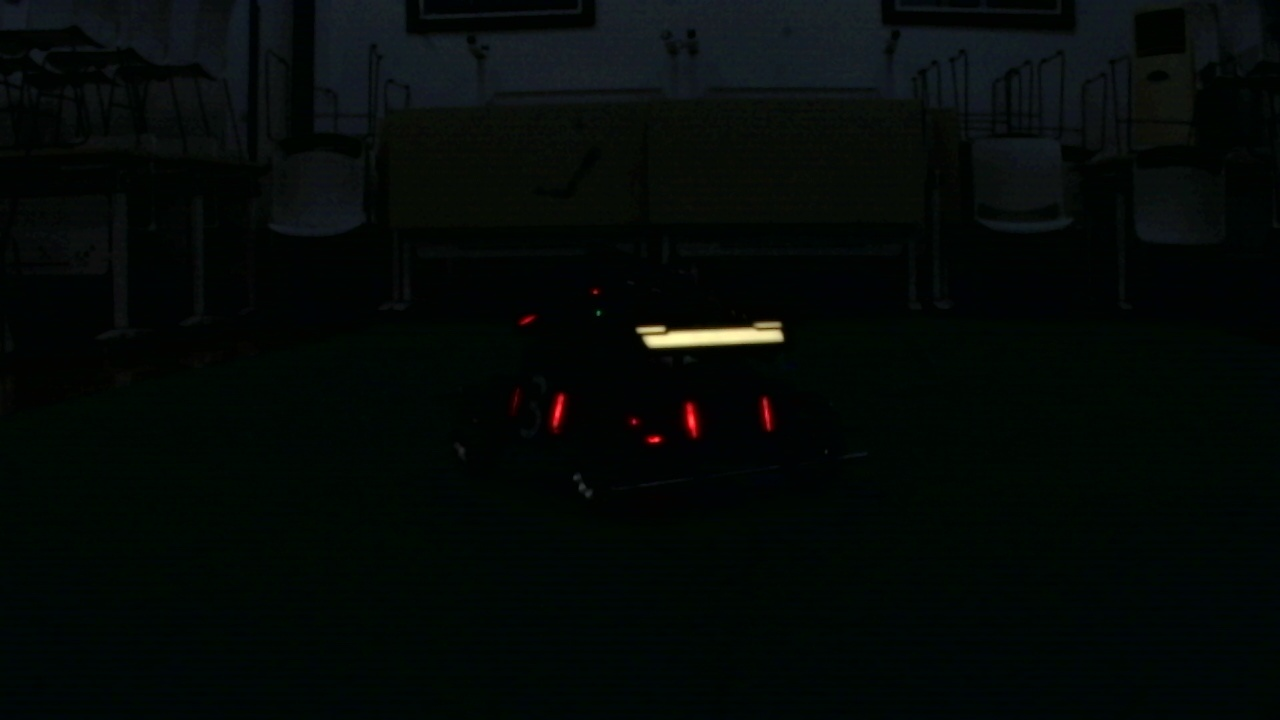lamp: (545, 392, 566, 430), (755, 397, 775, 432), (683, 397, 698, 437)
pair1: (684, 401, 773, 430)
